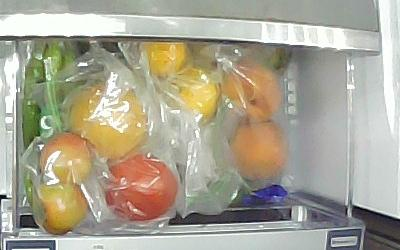peach_vinyl: (223, 58, 282, 120), (231, 116, 284, 177)
pear_vinyl: (70, 80, 148, 156)
tangerine_vinyl: (176, 70, 219, 123), (142, 41, 187, 81)
tomato_vinyl: (104, 154, 178, 221), (32, 178, 90, 236), (39, 132, 91, 182)
